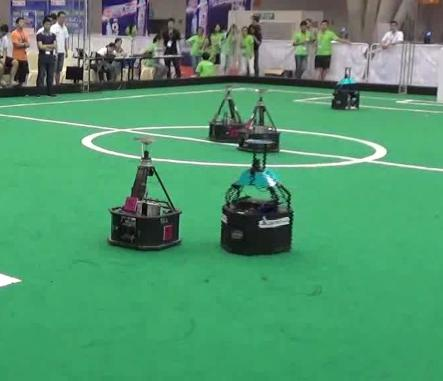robot: (216, 137, 296, 256), (104, 132, 182, 251)
